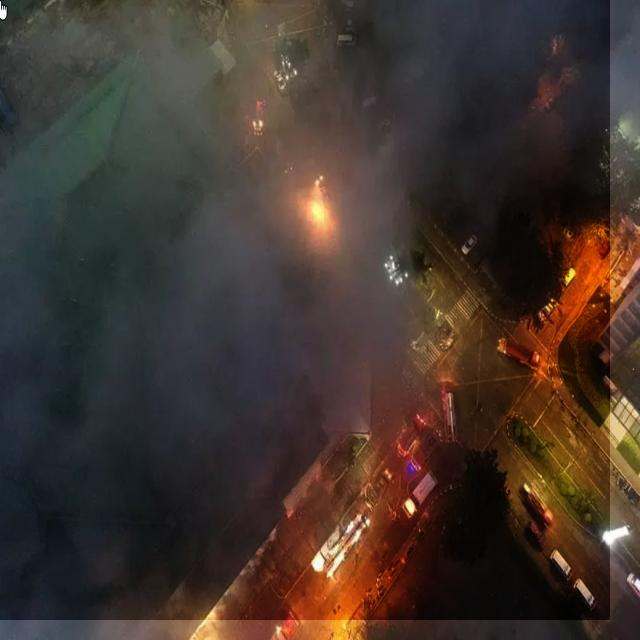Smoke: (0, 0, 610, 620)
